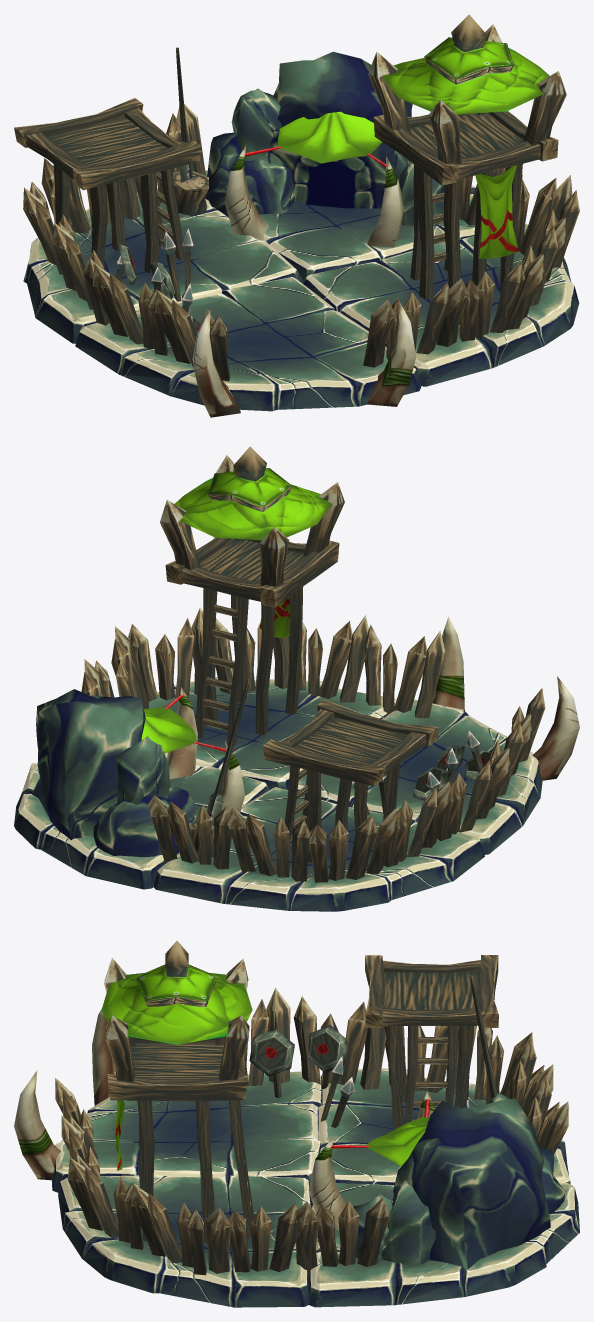
The model's file is Orc_Village_Building_05.FBX.
The picture shows the model from 3 angles, top to bottom: view 1: azimuth 30°, elevation 25°; view 2: azimuth 150°, elevation 25°; view 3: azimuth 270°, elevation 25°; orthographic projection. The views are drawn at different scales.
Parts seen in each view (by area): view 1: Orc_Village_Building_05; view 2: Orc_Village_Building_05; view 3: Orc_Village_Building_05.
Part boxes in pixels (x1,y1,x2,y2): Orc_Village_Building_05: [14, 14, 579, 417]; Orc_Village_Building_05: [14, 446, 579, 911]; Orc_Village_Building_05: [14, 941, 579, 1307].
Bounding box in the file's own units: 1768 × 1148 × 1910.
